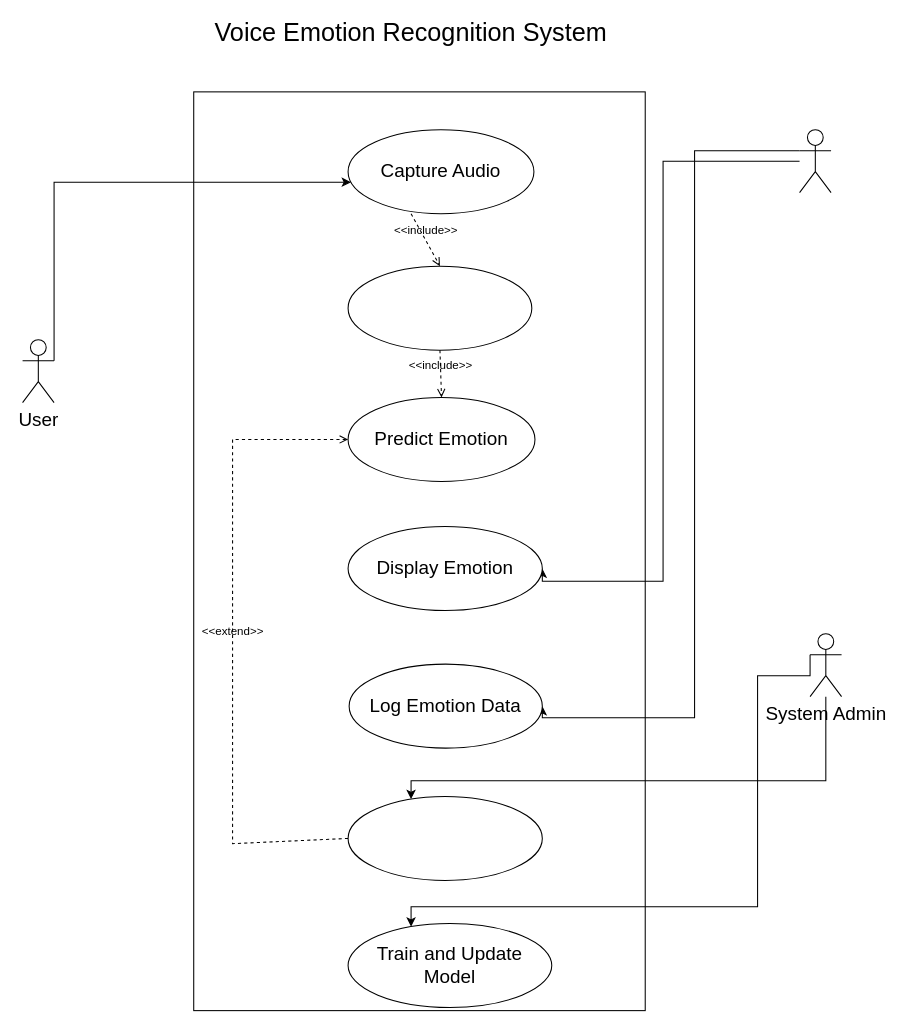
The diagram is 904 pixels wide and 1029 high, and some of its shapes have lost their labels. Each missing label, with the centre of its shape:
External Agent: the point at 815,161
Extract Features: the point at 439,307
Trigger Alert: the point at 444,837
